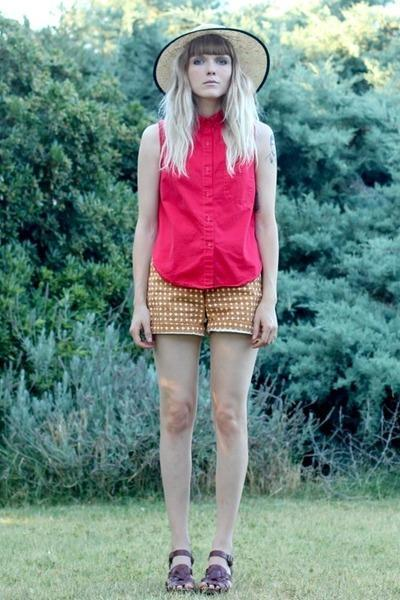hat: (153, 30, 266, 97)
shirt: (151, 111, 263, 293)
shoe: (166, 550, 232, 595)
shorts: (145, 279, 264, 347)
